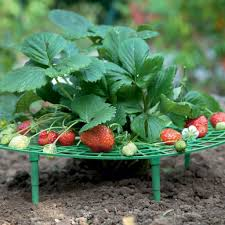Fresa: (77, 121, 116, 155), (182, 112, 208, 140), (158, 127, 183, 148), (56, 126, 77, 148), (35, 128, 56, 148)
